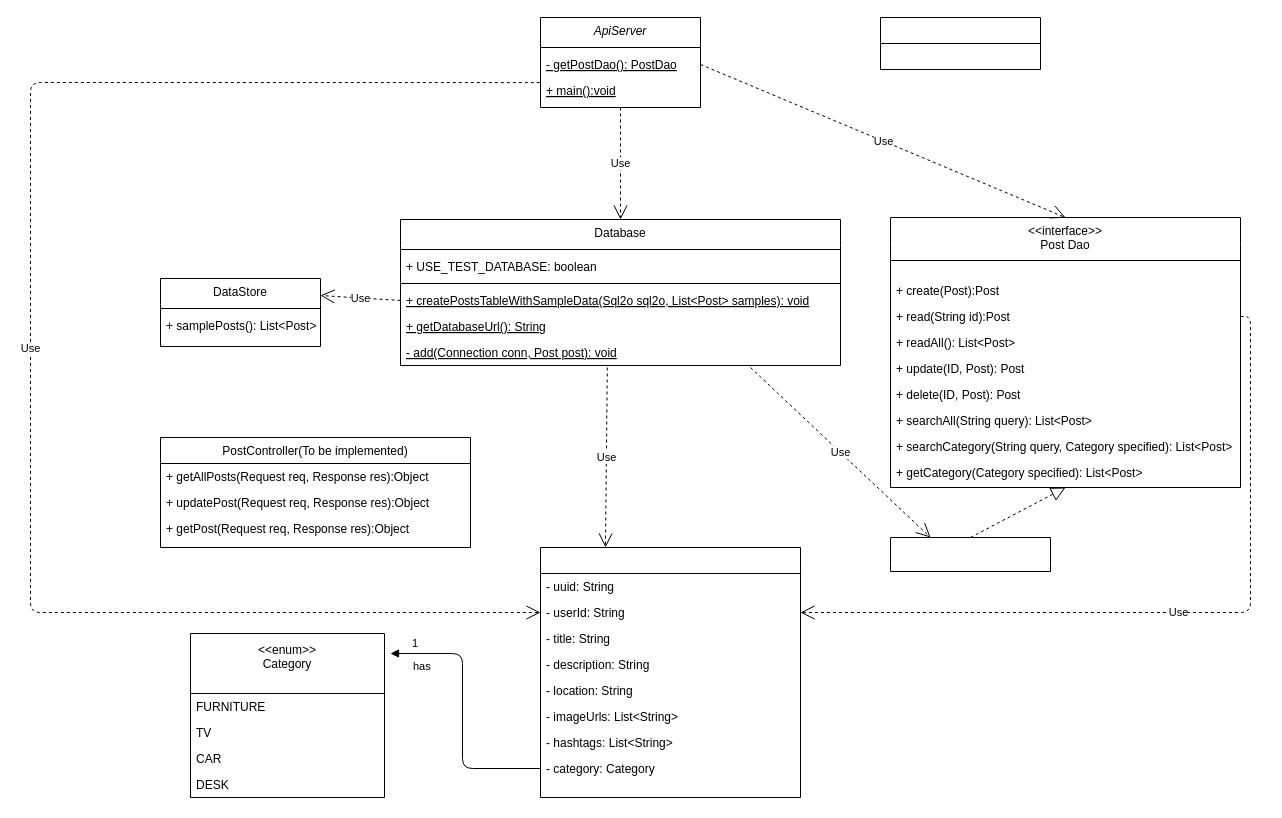
The diagram is 1282 pixels wide and 818 high, and some of its shapes have lost their labels. Each missing label, with the box of its shape:
Frontend: (880, 16, 1040, 70)
Post: (540, 546, 800, 798)
Sql2oPostDao: (890, 536, 1050, 572)
